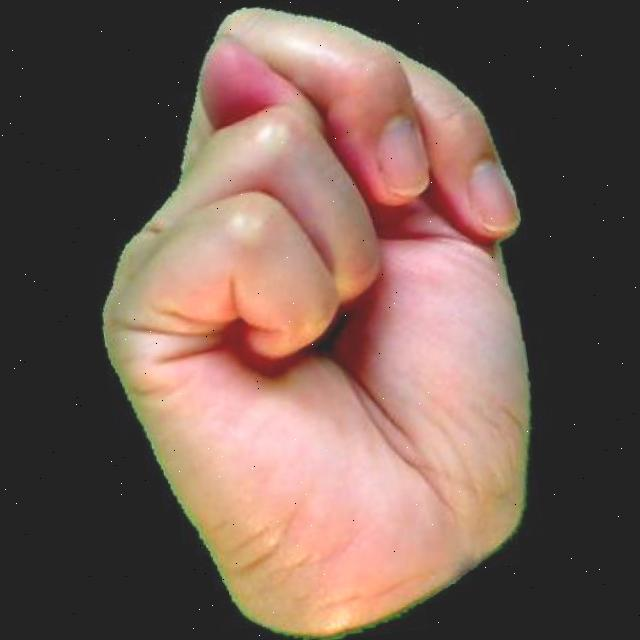n: (57, 0, 578, 640)
